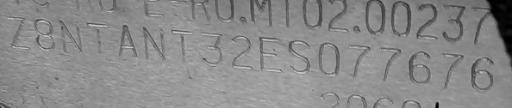letter: (436, 47, 464, 90), (468, 53, 496, 93), (4, 14, 32, 53), (257, 34, 283, 76), (406, 46, 432, 87), (58, 16, 84, 56), (227, 32, 253, 72), (286, 37, 312, 77), (316, 38, 342, 78), (377, 43, 403, 82), (138, 24, 166, 60), (199, 27, 223, 69), (347, 39, 371, 81), (169, 25, 193, 66), (116, 21, 140, 60), (32, 17, 56, 54), (86, 18, 108, 55)
